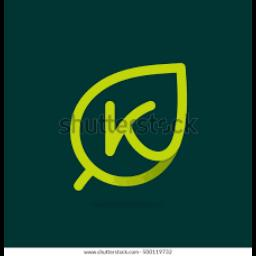k: (54, 57, 196, 199)
